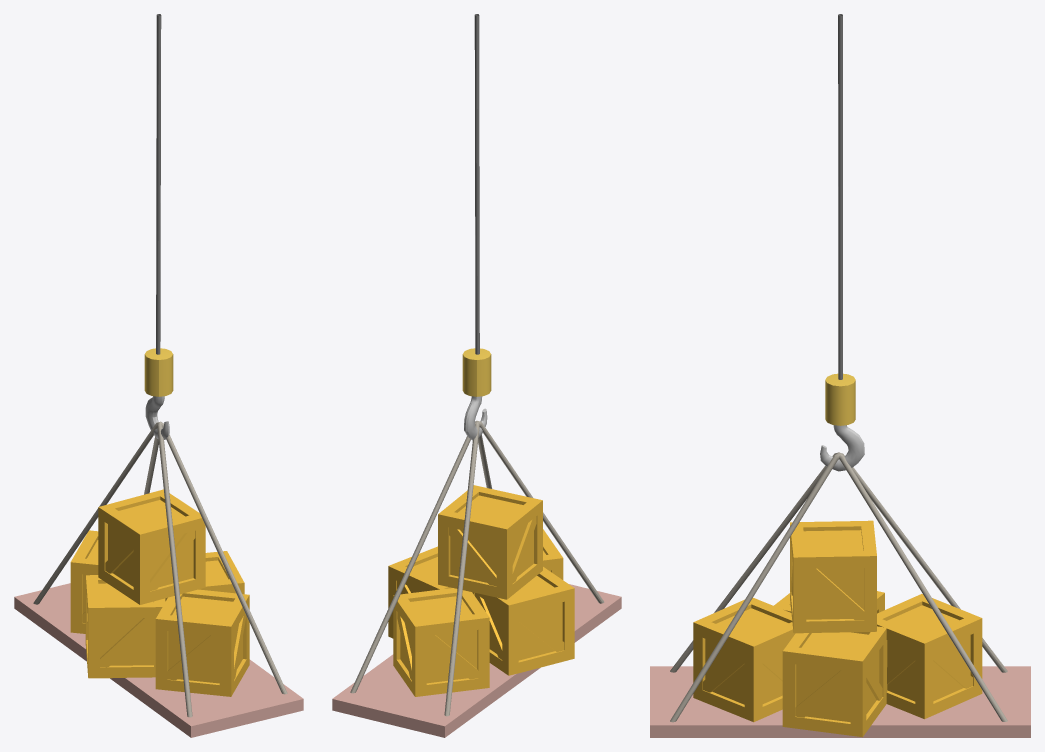
The model's file is swinging platform.fbx.
3 views of the same model, side by side, from view 1: azimuth 30°, elevation 25°; view 2: azimuth 150°, elevation 25°; view 3: azimuth 270°, elevation 25° (orthographic). The views are drawn at different scales.
Parts seen in each view (by area): view 1: Box.005, Crane_platform.002, Box.001, Crane_platform.001, Box.003, Box.004, Crane_platform.003, Box.002; view 2: Box.005, Box.004, Crane_platform.002, Box.003, Crane_platform.001, Box.002, Crane_platform.003, Box.001; view 3: Crane_platform.002, Box.002, Box.004, Box.005, Box.001, Crane_platform.001, Crane_platform.003.
Boxes of the visible parts, left/top/right/bottom form: Box.005: left=98, top=489, right=205, bottom=604; Crane_platform.002: left=14, top=583, right=303, bottom=737; Box.001: left=155, top=589, right=249, bottom=696; Crane_platform.001: left=33, top=348, right=287, bottom=717; Box.003: left=85, top=575, right=165, bottom=678; Box.004: left=70, top=530, right=98, bottom=633; Crane_platform.003: left=156, top=14, right=161, bottom=354; Box.002: left=165, top=551, right=244, bottom=601; Box.005: left=438, top=485, right=542, bottom=599; Box.004: left=393, top=588, right=489, bottom=696; Crane_platform.002: left=332, top=584, right=621, bottom=737; Box.003: left=472, top=567, right=574, bottom=675; Crane_platform.001: left=350, top=348, right=604, bottom=716; Box.002: left=388, top=546, right=451, bottom=638; Crane_platform.003: left=474, top=14, right=479, bottom=354; Box.001: left=543, top=529, right=563, bottom=579; Crane_platform.002: left=650, top=666, right=1030, bottom=737; Box.002: left=782, top=626, right=887, bottom=737; Box.004: left=877, top=594, right=982, bottom=719; Box.005: left=790, top=520, right=876, bottom=633; Box.001: left=693, top=597, right=795, bottom=722; Crane_platform.001: left=670, top=373, right=1007, bottom=722; Crane_platform.003: left=838, top=14, right=842, bottom=379.
Size of the model in its own units: 2.31 by 8.75 by 4.36.
